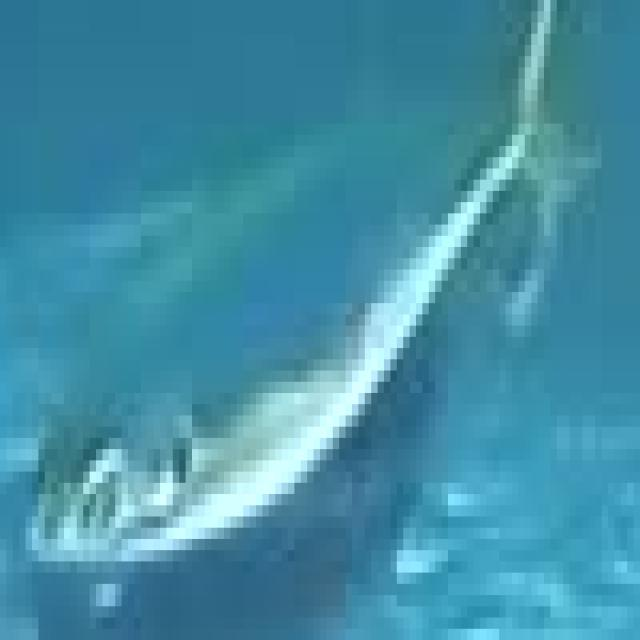fish: (6, 0, 640, 629)
